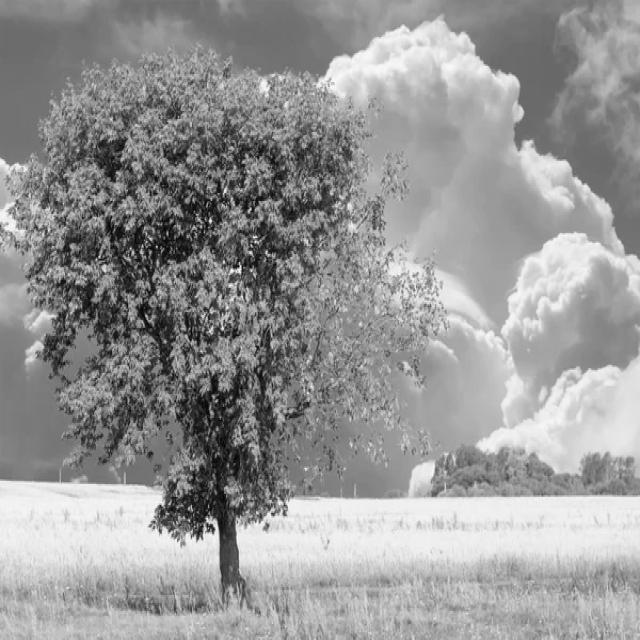Tree: (0, 50, 445, 602)
